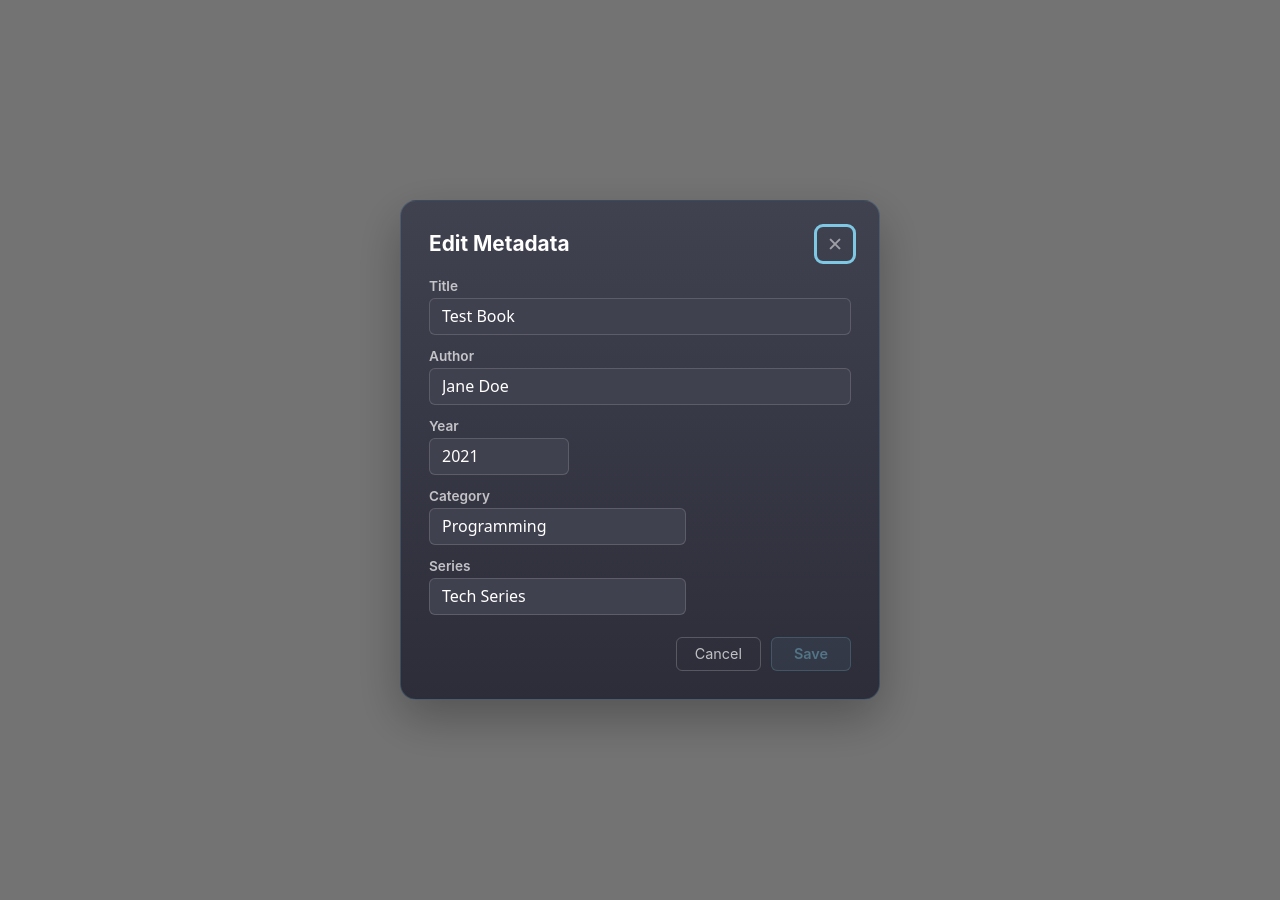
Test case: MetadataEditModal › displays API error message on save failure
Replace the text in the field labelled "Author" with "New Author" at [640, 387], box [429, 368, 851, 405]
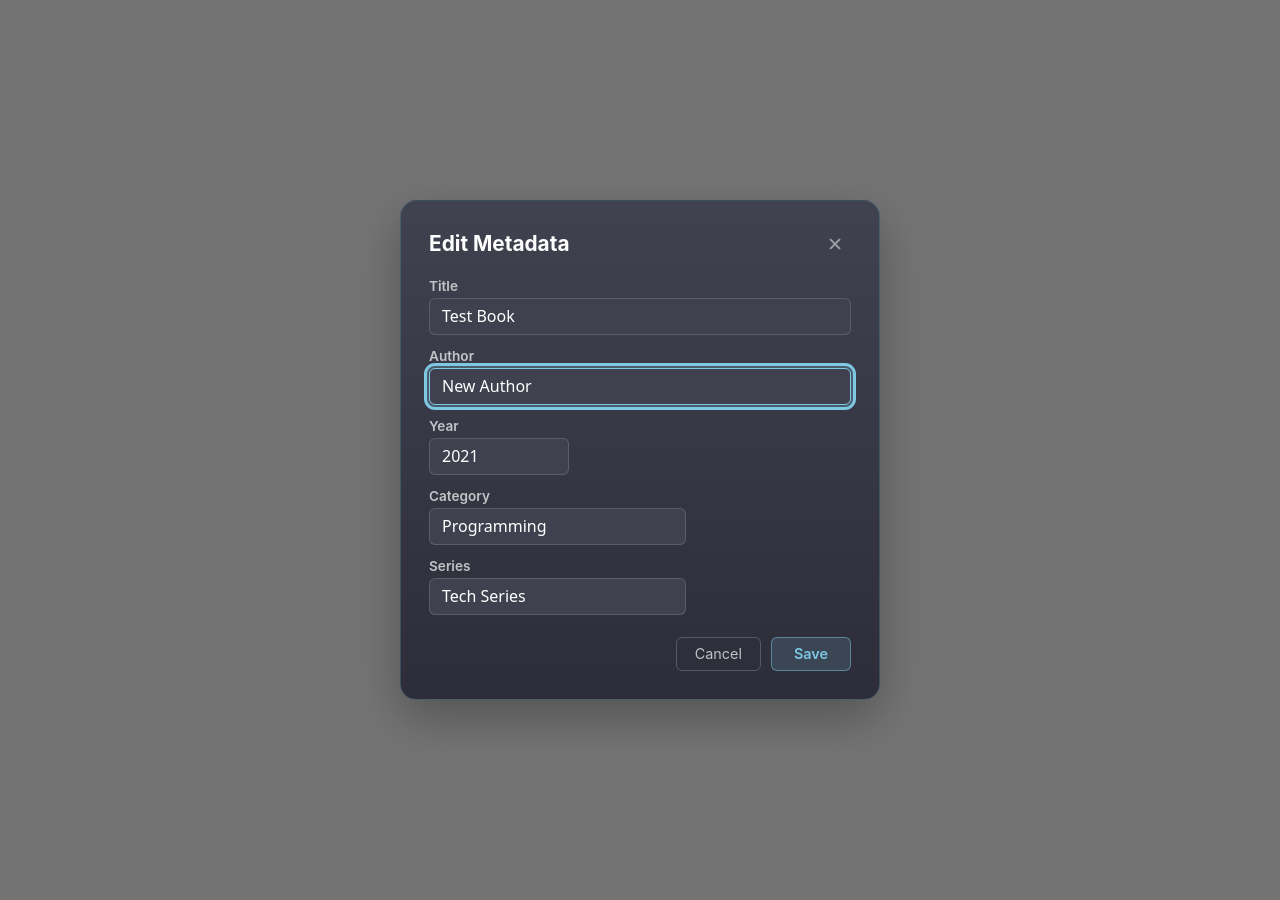
Click the button "Save".
click(811, 654)  # box [771, 637, 851, 671]
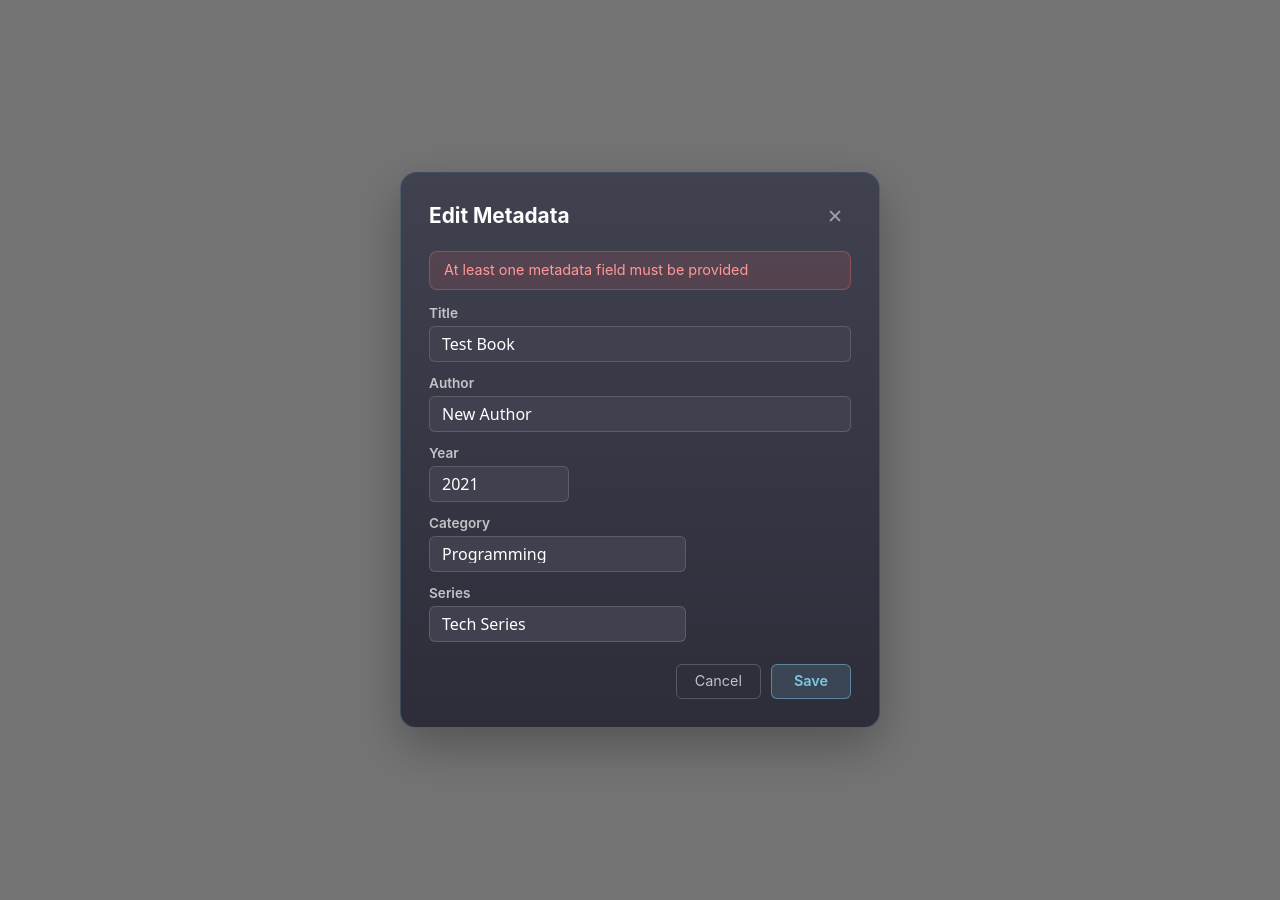
Check: the message reads "At least one metadata field must be provided", box [444, 261, 748, 278]
